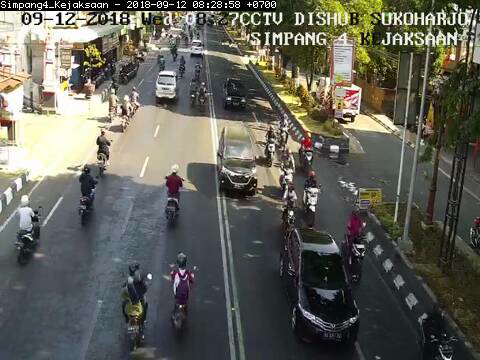motor: (338, 205, 372, 284), (415, 301, 461, 359), (302, 170, 320, 226), (280, 181, 298, 236), (298, 131, 314, 176), (264, 126, 277, 166)
